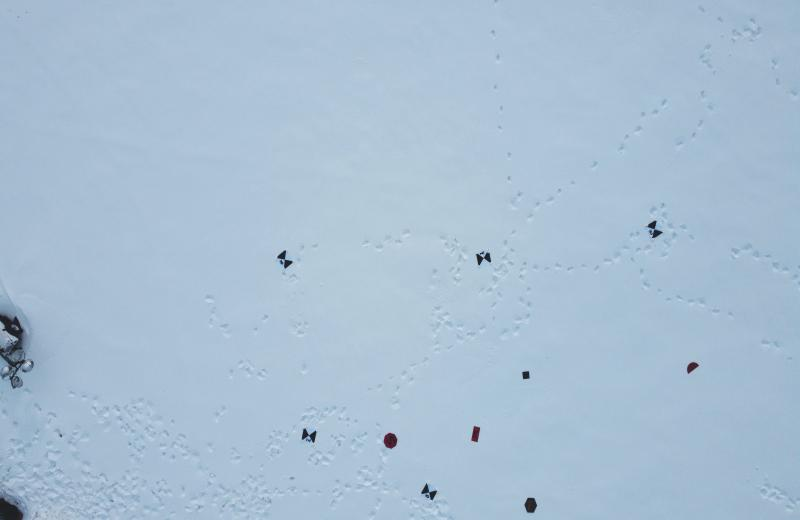Hexagon: (524, 497, 538, 514)
Octagon: (383, 432, 398, 449)
Rectangle: (471, 426, 481, 443)
Semi Circle: (686, 362, 700, 374)
Square: (522, 371, 530, 380)
